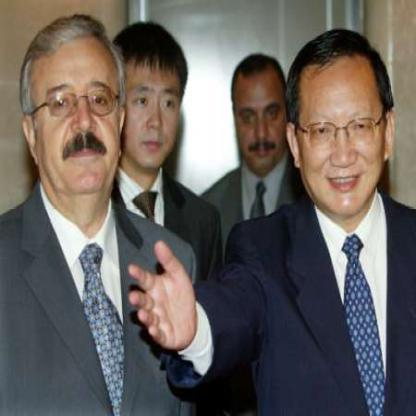face: (32, 20, 124, 200), (298, 34, 386, 217), (113, 25, 188, 172), (233, 56, 290, 175)
